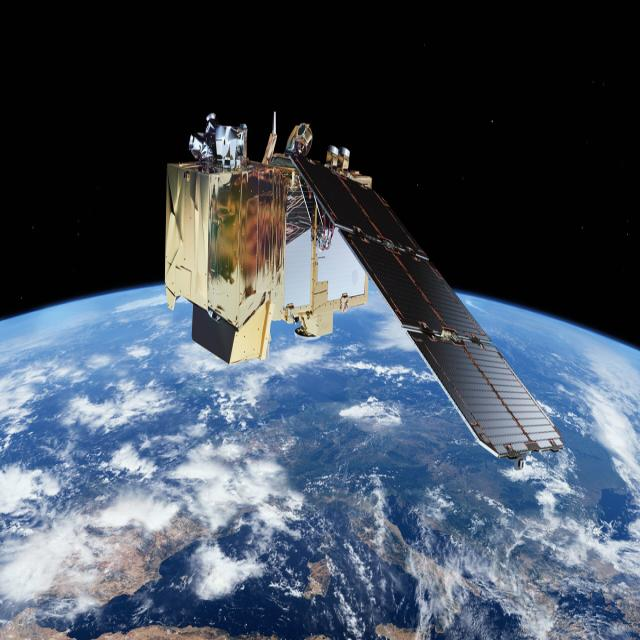satellite: (160, 101, 570, 486)
